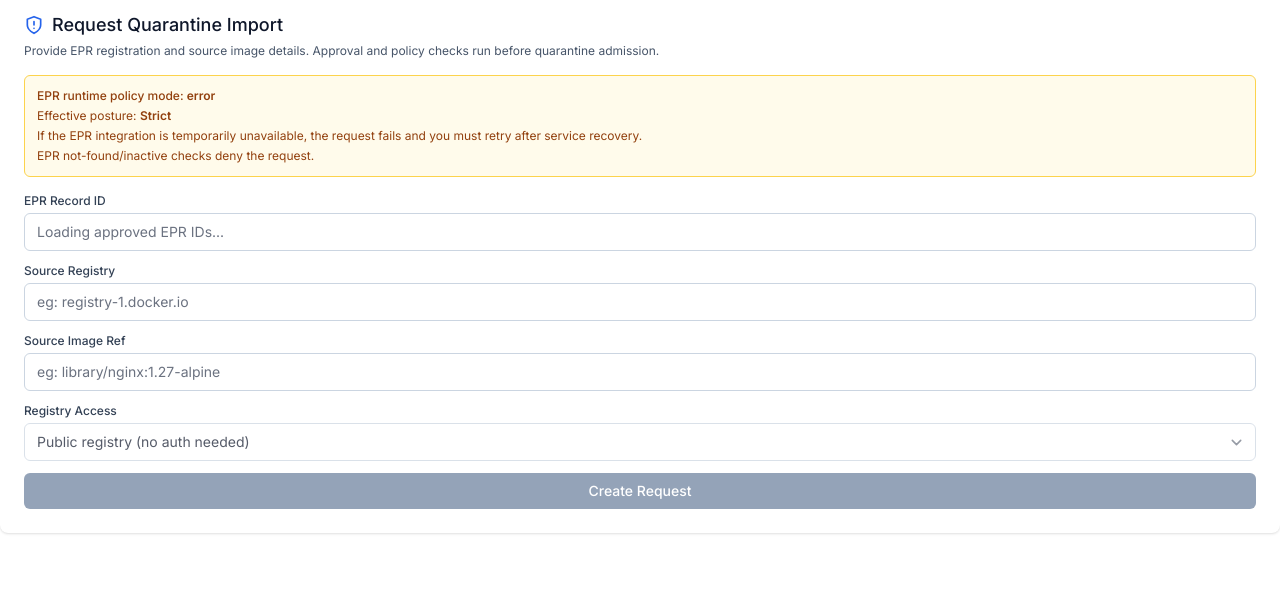
Test: ExternalImportRequestForm › maps epr_registration_required to actionable message
Type "EPR-123" into the field labelled "EPR Record ID" at (640, 232), box [24, 213, 1256, 251]
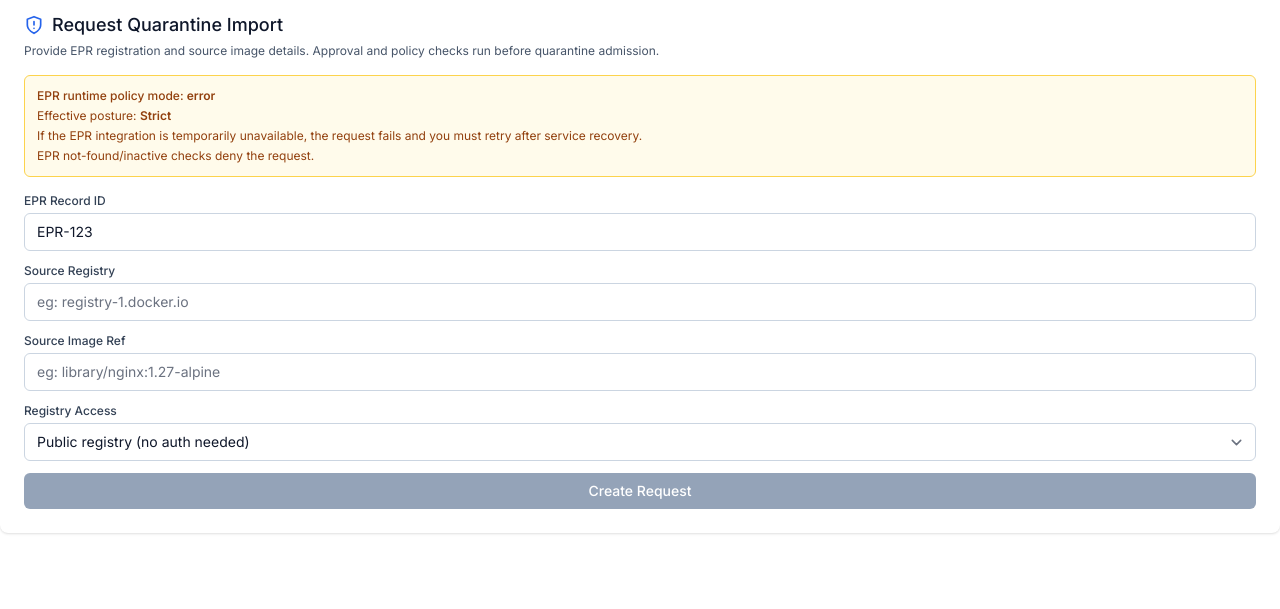
Expected: the field labelled "Source Image Ref" is enabled, [24, 353, 1256, 391]
Type "registry-1.docker.io" into the field labelled "Source Registry" at (640, 302), box [24, 283, 1256, 321]
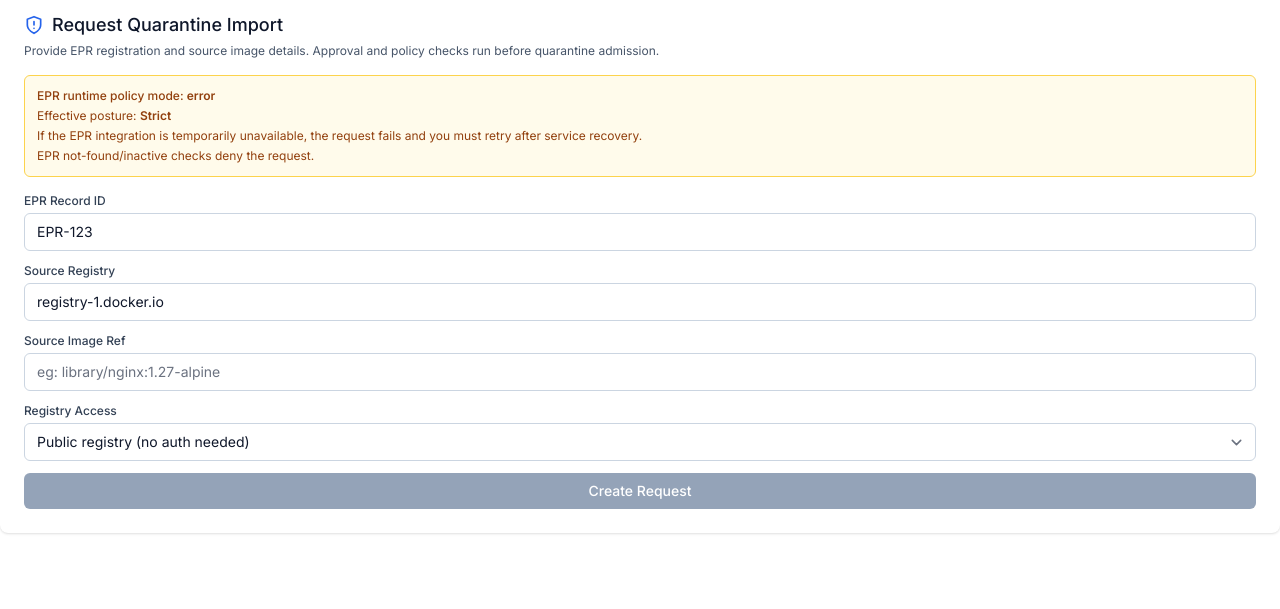
Type "library/nginx:latest" into the field labelled "Source Image Ref" at (640, 372), box [24, 353, 1256, 391]
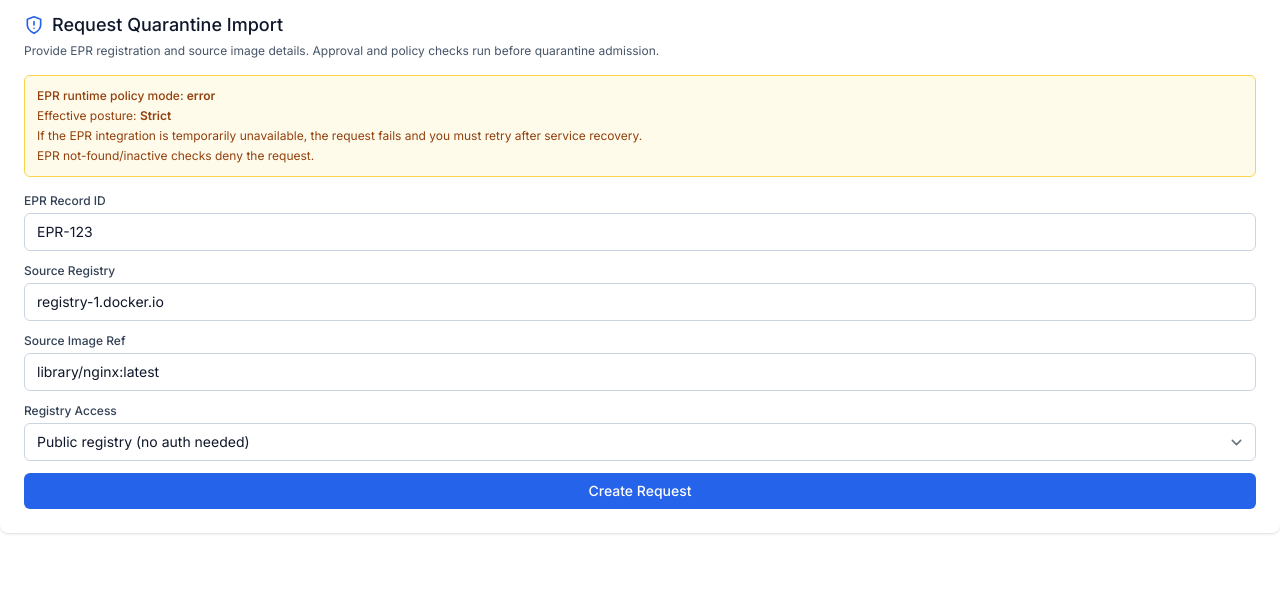
Click the button "Create Request" at (640, 491), box [24, 473, 1256, 509]
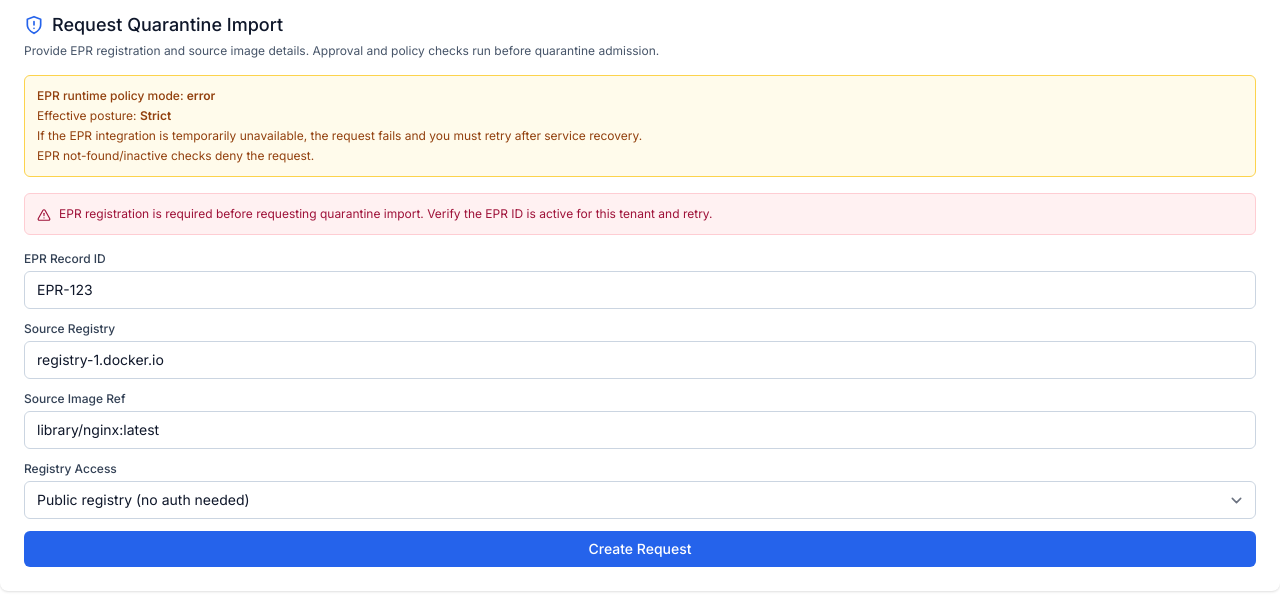
Expected: the text "EPR registration is required before requesting quarantine import" is shown, [59, 206, 712, 221]
